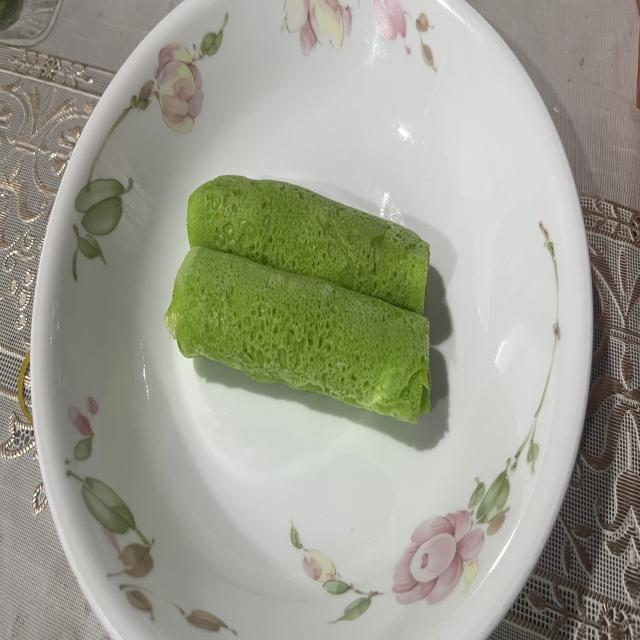Kuih-Ketayap: (164, 247, 430, 422), (188, 176, 430, 313)
